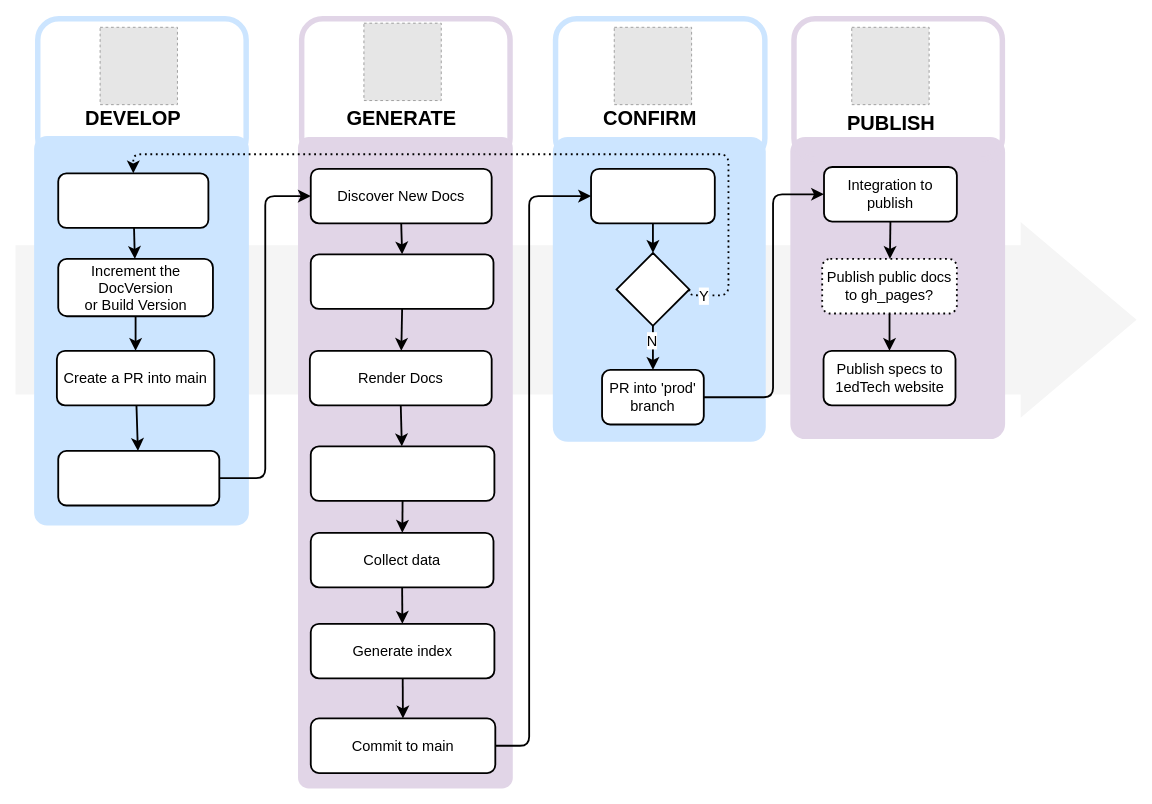
Some shapes in this 1152 by 804 pixel diagram are drawn without their labels. Grey dashed boxes stand in for pictures. Here are the shapes that lost their labels. From the top down, the box of each, then its label:
(57, 172, 209, 228): Specification Development
(590, 167, 715, 224): Check rendered docs
(309, 253, 494, 309): Review ReSpec Configs
(615, 252, 690, 326): Issues?
(57, 450, 220, 506): Working Group Reviews and Accepts
(309, 445, 495, 501): Base64 and embed images
